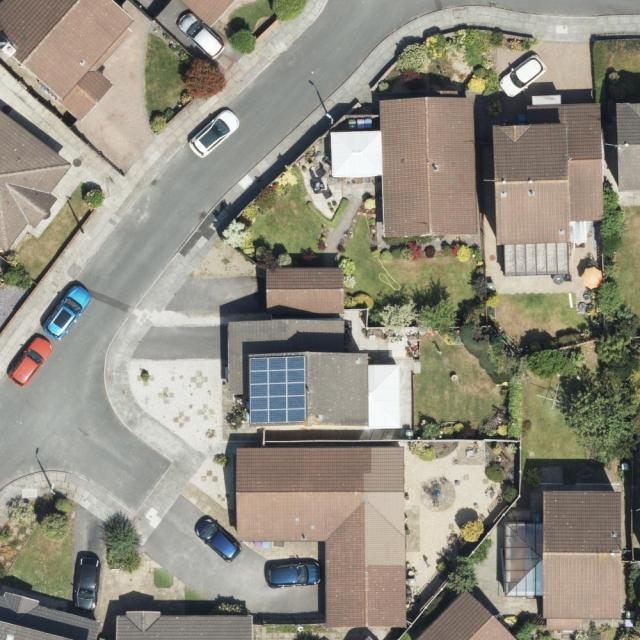roof: (236, 447, 407, 629), (332, 97, 481, 237), (491, 104, 607, 275), (226, 318, 400, 430), (0, 0, 138, 120), (502, 490, 624, 619), (0, 109, 74, 250), (418, 586, 520, 639), (0, 595, 99, 640), (114, 613, 255, 640), (267, 267, 344, 311), (616, 103, 640, 191), (181, 0, 236, 27)
skylight: (504, 524, 546, 597)
solar: (248, 357, 308, 424)
